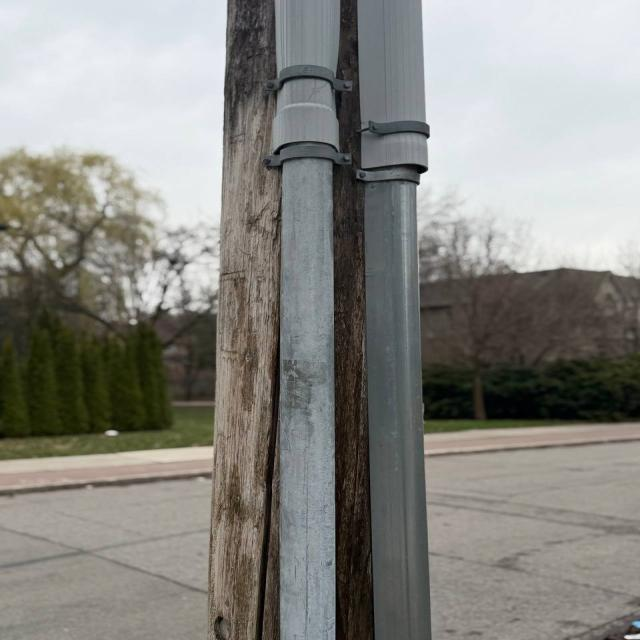Electrical Pole: (193, 0, 440, 640)
